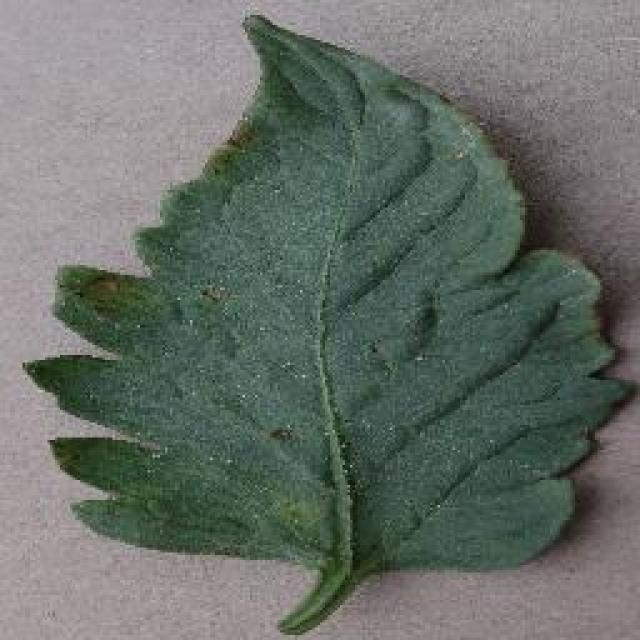Tomato___Bacterial_spot: (21, 15, 637, 637)
